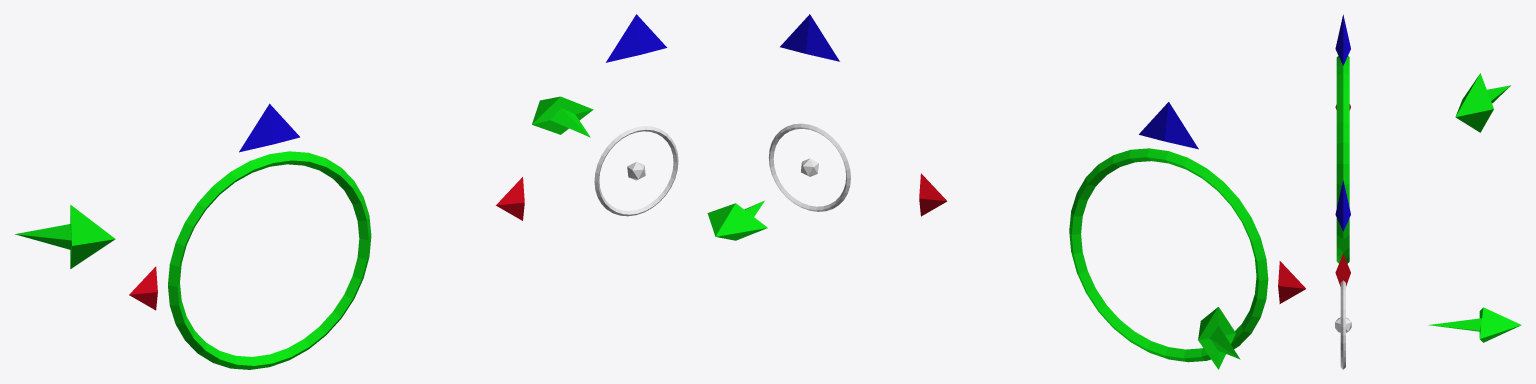
File: courser.fbx
The picture shows the model from 3 angles, left to right: view 1: azimuth 30°, elevation 25°; view 2: azimuth 150°, elevation 25°; view 3: azimuth 270°, elevation 25°; orthographic projection. The views are drawn at different scales.
Visible parts, largest first — view 1: round_courser_callibration, round_courser_Y; view 2: round_courser_callibration, round_courser_Y; view 3: round_courser_callibration, round_courser_Y.
Part boxes in pixels (<box>): round_courser_callibration: <box>15,103,371,369</box>; round_courser_Y: <box>496,14,678,220</box>; round_courser_callibration: <box>1069,102,1305,369</box>; round_courser_Y: <box>707,14,947,240</box>; round_courser_callibration: <box>1335,14,1510,263</box>; round_courser_Y: <box>1335,180,1521,369</box>.
Size of the model in its own units: 315 by 139 by 96.25.
